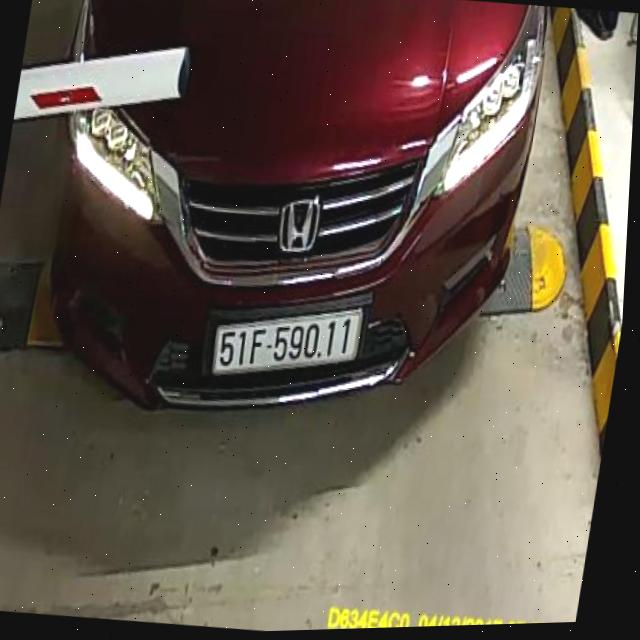car: (4, 0, 567, 449)
plate: (209, 297, 368, 385)
